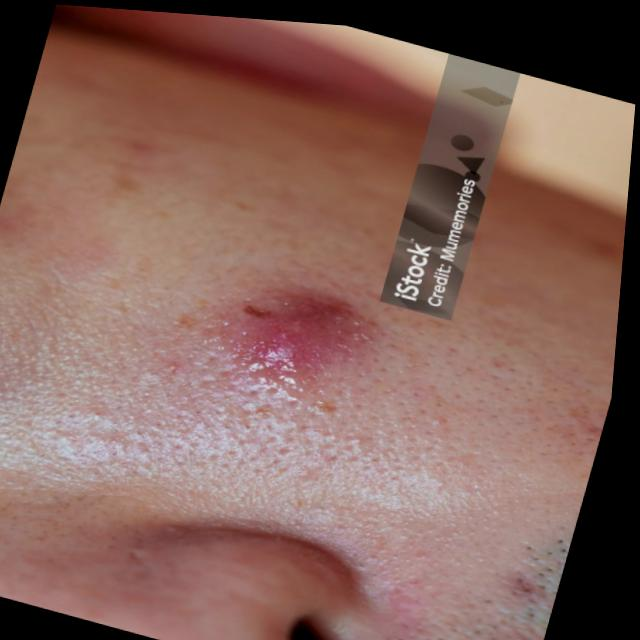papule: (201, 266, 389, 378)
